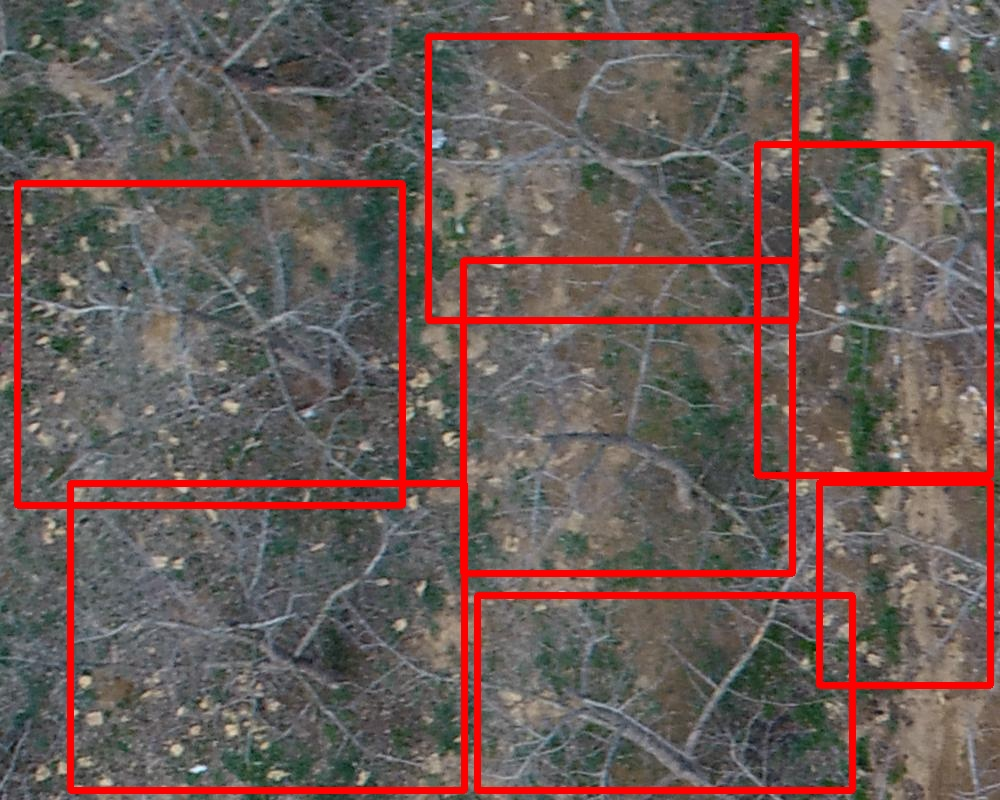apple: (17, 183, 402, 505), (70, 483, 464, 790), (428, 36, 795, 320), (463, 260, 792, 573), (757, 144, 990, 475), (477, 595, 852, 790), (819, 482, 990, 685)
